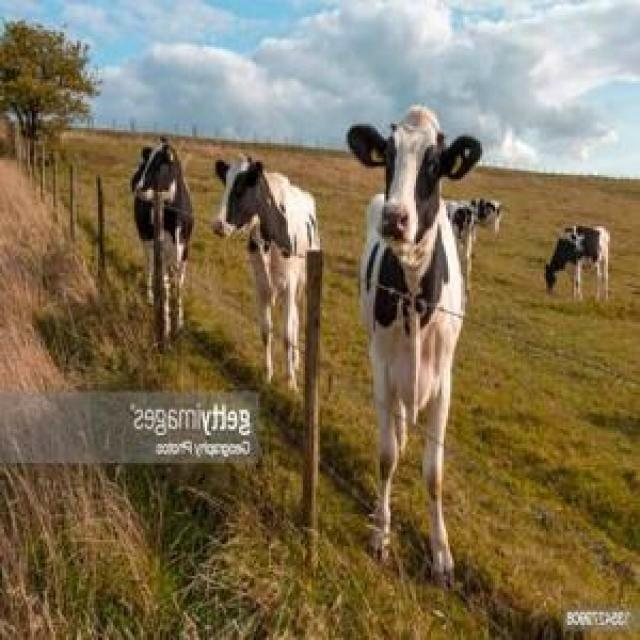cow: (348, 105, 482, 583), (212, 158, 320, 388), (131, 138, 194, 348)
